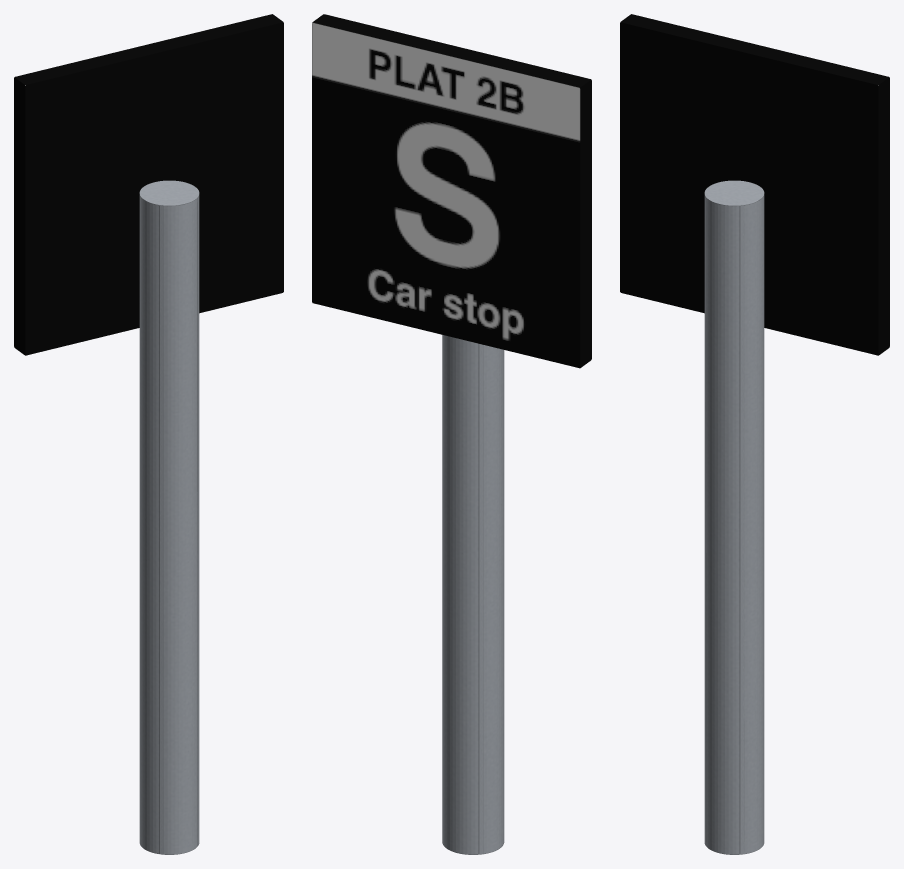
File: plat2bmark.obj
The picture shows the model from 3 angles, left to right: view 1: azimuth 30°, elevation 25°; view 2: azimuth 150°, elevation 25°; view 3: azimuth 330°, elevation 25°; orthographic projection. The views are drawn at different scales.
Visible parts, largest first — view 1: cube, cylinder; view 2: cube, cylinder; view 3: cube, cylinder.
Part boxes in pixels (<box>): cube: <box>14,14,283,355</box>; cylinder: <box>139,180,199,854</box>; cube: <box>312,14,591,368</box>; cylinder: <box>442,335,504,854</box>; cube: <box>620,14,889,355</box>; cylinder: <box>704,180,764,854</box>.
Bounding box in the file's own units: 0.625 × 1.8 × 0.1719.
Materials: 1 (1 with a texture image).
